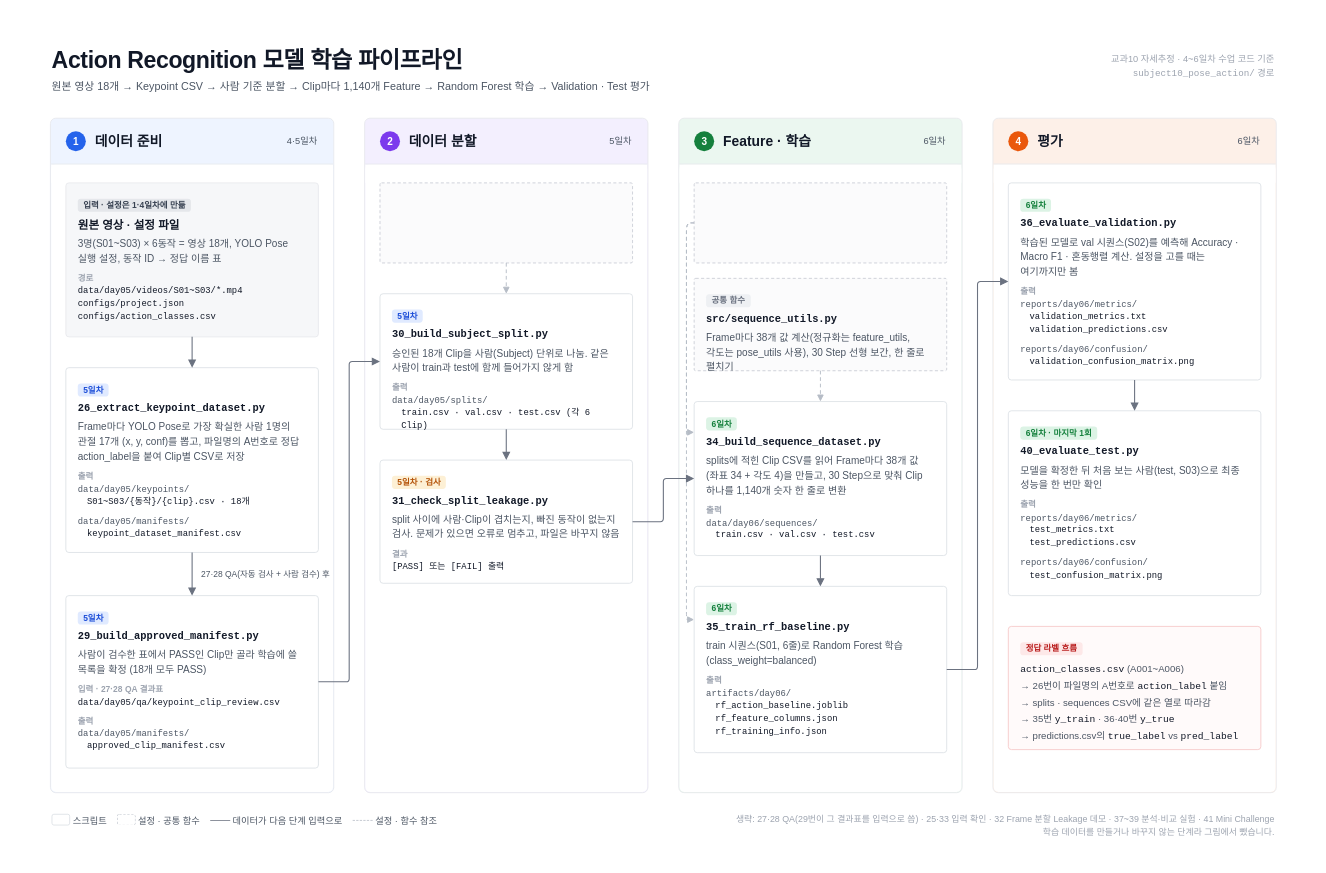
This 1326x873 diagram has some shape labels left out. The shapes that lost their labels are listed below. From the top down, each one's box as (x1, y1, x2, y2) in pixels, then its label:
(379, 182, 633, 263): 설정 configs/day05_subject_split.json S01 → train · S02 → val · S03 → test
(693, 182, 947, 263): 설정 configs/day06_baseline.json 30 Step · 최소 10 Frame · Tree 300개 · seed 42
